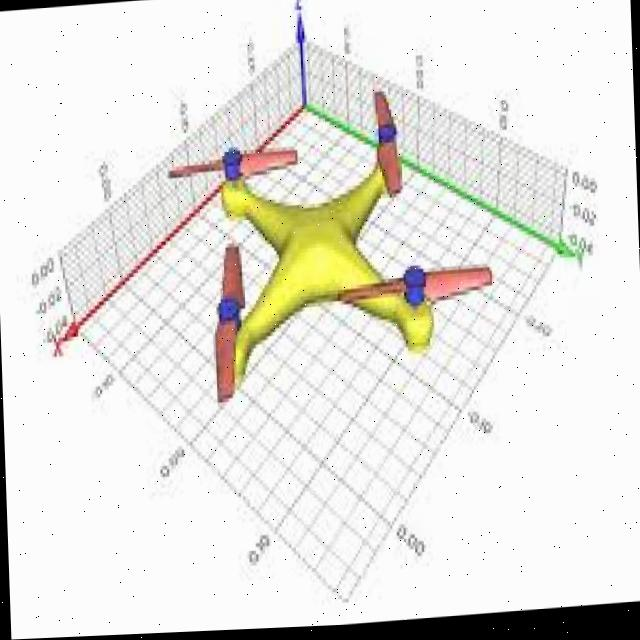drone: (163, 99, 518, 415)
